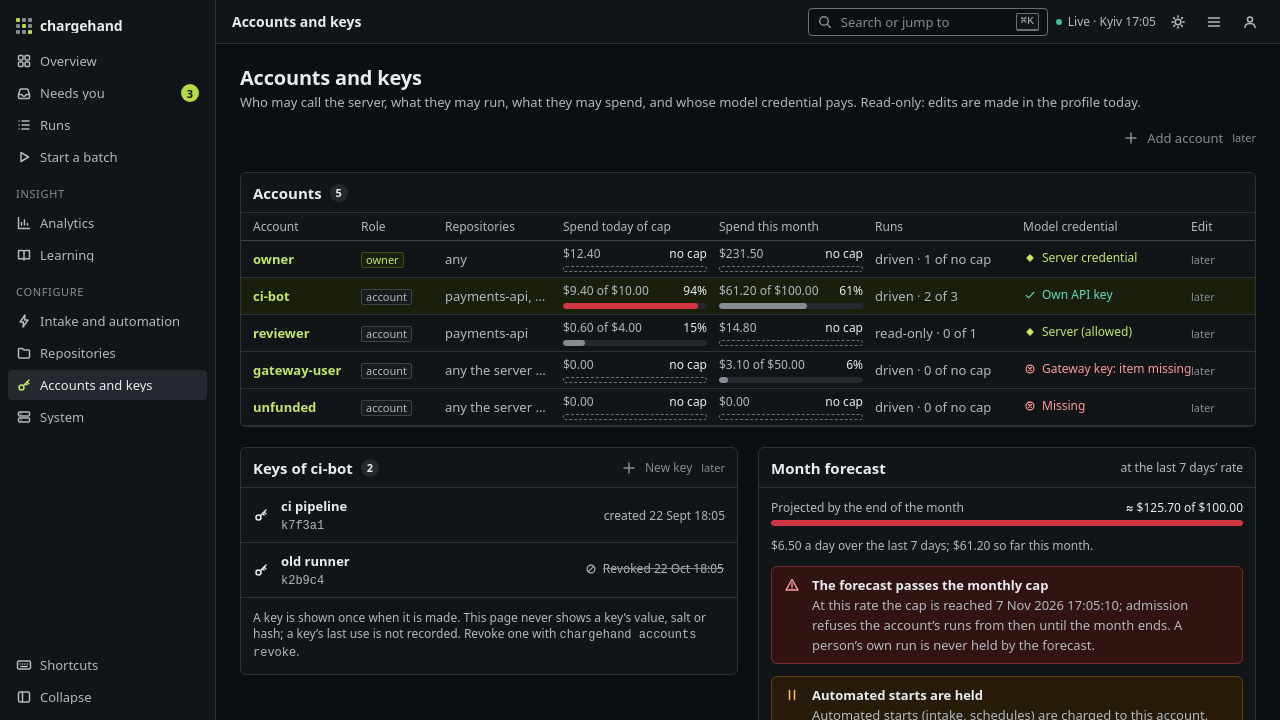
it: Accounts with data › opens on the first account that is not the owner and switches its keys, credential and limits with the choice
The width and height of the screenshot is (1280, 720).
Expected: the table named "Accounts" is shown, [241,213,1255,426]
Expected: the heading "Keys of ci-bot" is shown, [253,456,353,478]
Click the button "reviewer" at (281, 333), box [253,323,310,343]
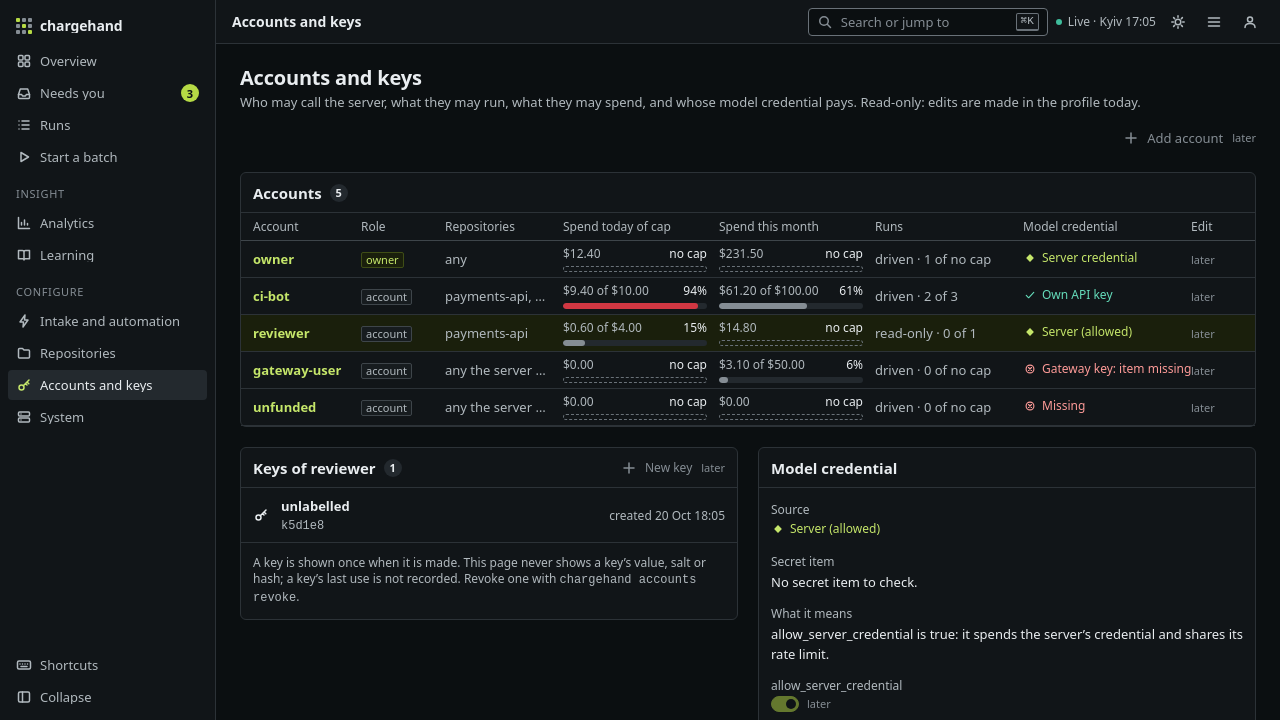
Expected: the heading "Keys of reviewer" is shown, [253,456,376,478]
Expected: the text "unlabelled" is shown, [281,497,350,515]
Expected: the text "k5d1e8" is shown, [281,519,324,533]
